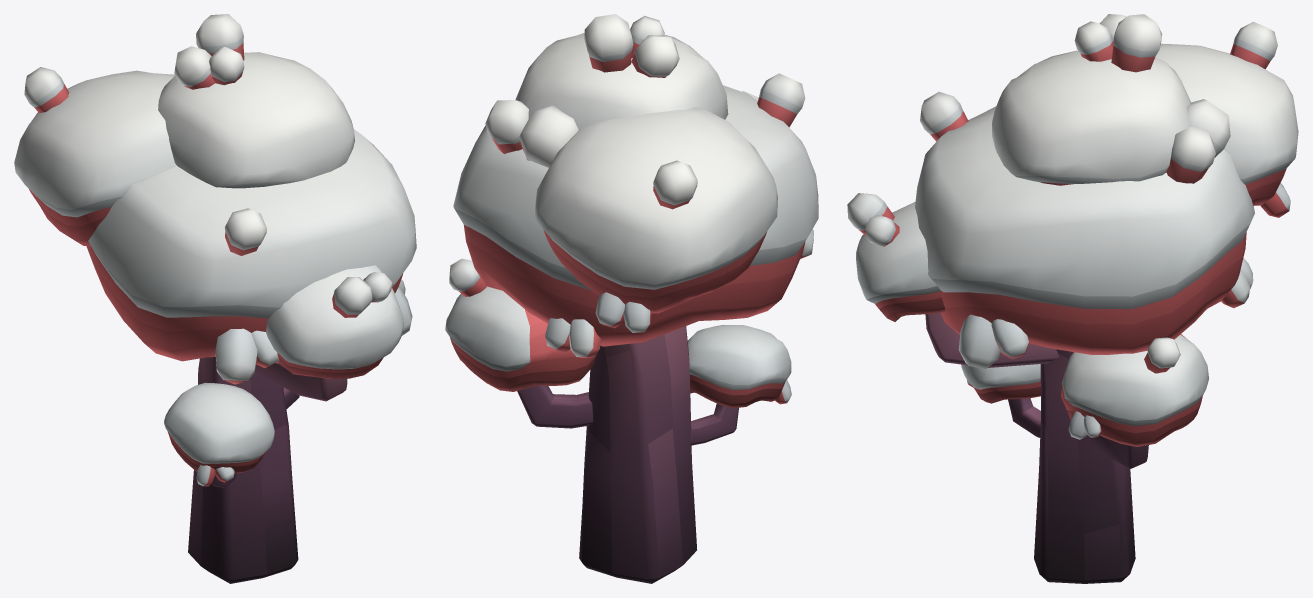
Rendered from grassland_tree_col3_4_snow.fbx.
3 views of the same model, side by side, from view 1: azimuth 30°, elevation 25°; view 2: azimuth 150°, elevation 25°; view 3: azimuth 270°, elevation 25° (orthographic). The views are drawn at different scales.
Parts seen in each view (by area): view 1: grassland_tree_col3_4_snow; view 2: grassland_tree_col3_4_snow; view 3: grassland_tree_col3_4_snow.
Boxes of the visible parts, x1,y1,x2,y2 form: grassland_tree_col3_4_snow: (14, 14, 416, 583); grassland_tree_col3_4_snow: (445, 14, 818, 583); grassland_tree_col3_4_snow: (847, 14, 1298, 583).
Size of the model in its own units: 540 by 917 by 681.
